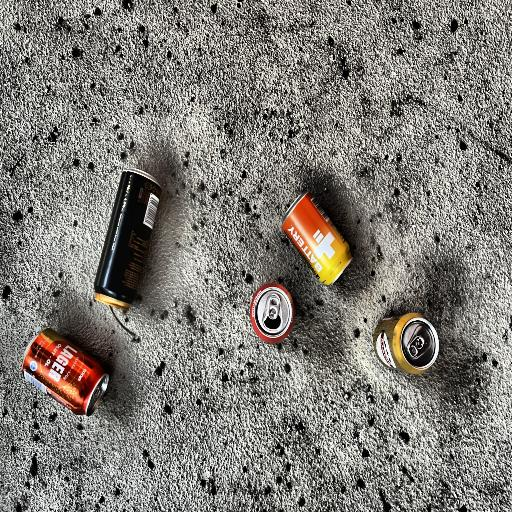A_LeCoq: (366, 302, 449, 379)
coop_larger: (14, 318, 124, 416)
karhu: (88, 154, 172, 318)
